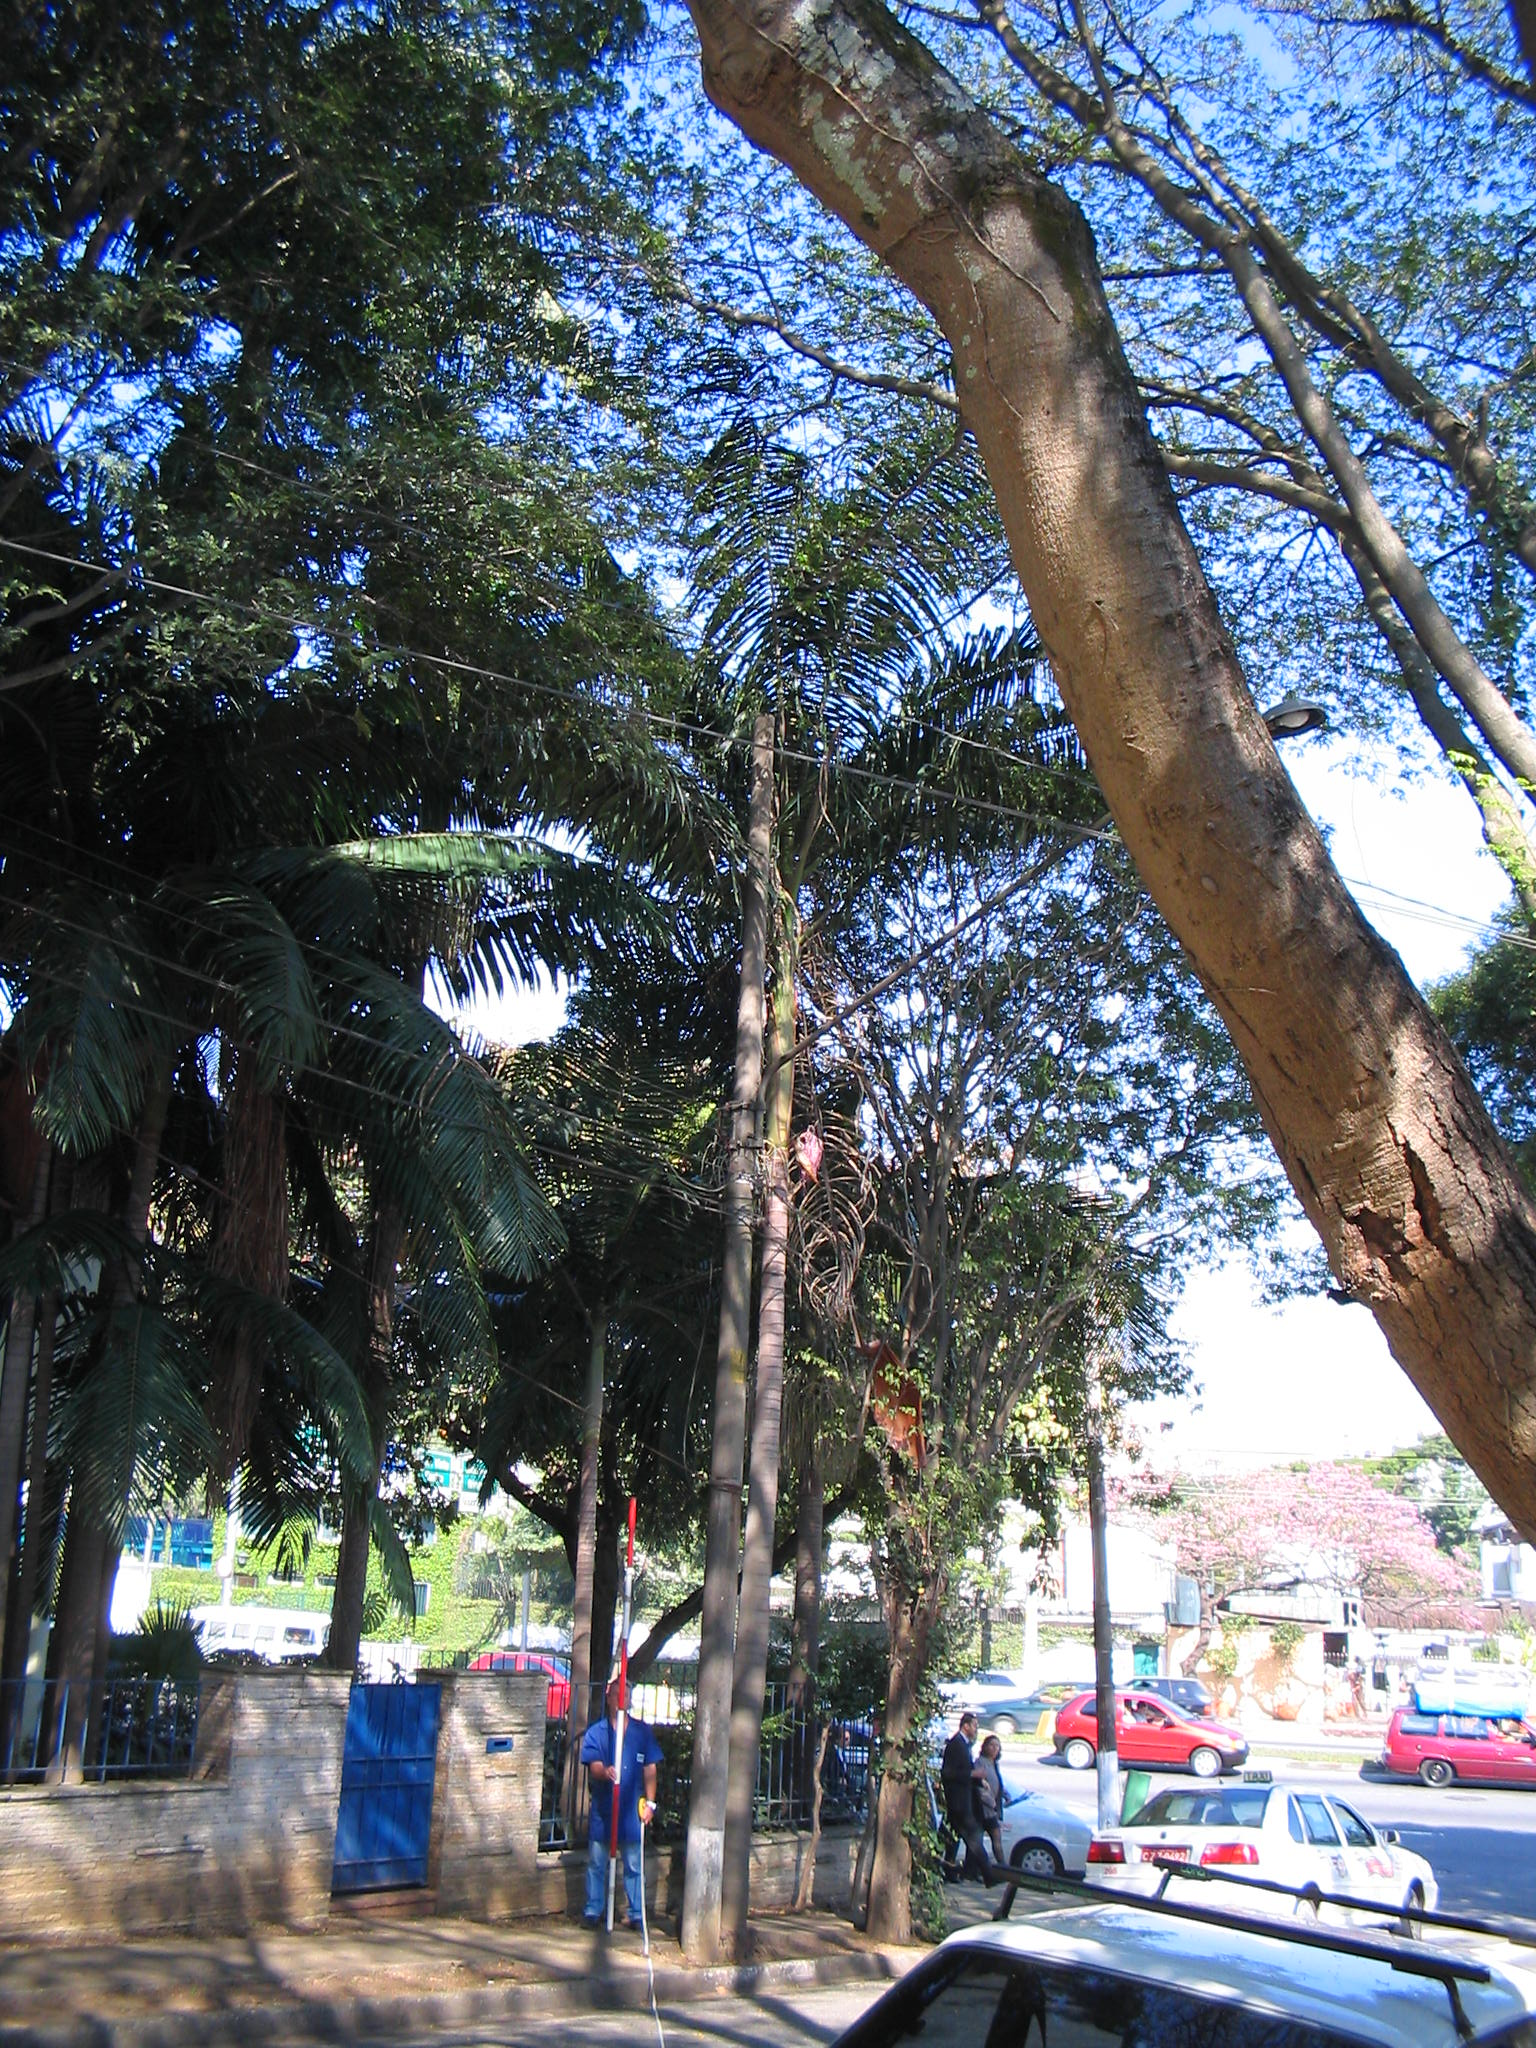stick: (586, 1496, 660, 1927)
